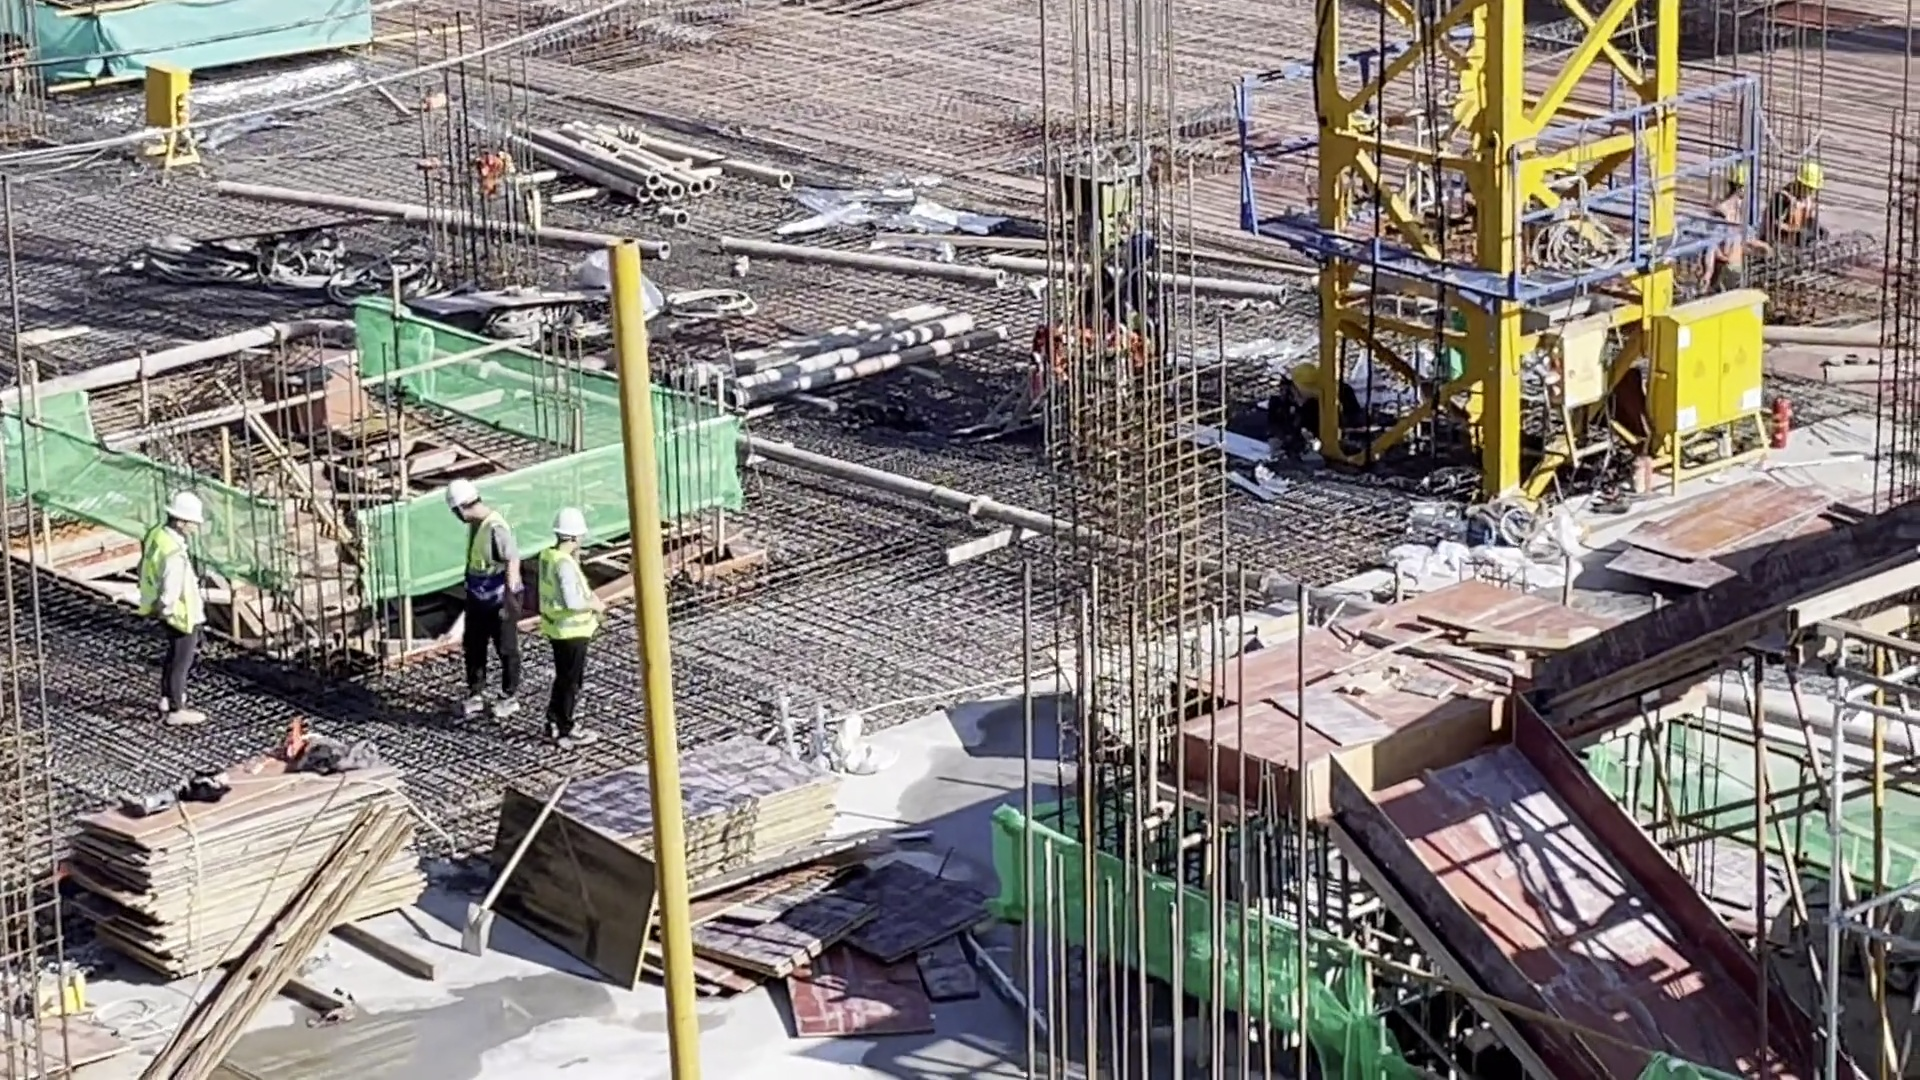board: (72, 727, 429, 980), (515, 734, 846, 888)
ebox: (1651, 288, 1768, 477), (144, 61, 200, 170)
helmet: (165, 494, 203, 530), (551, 508, 587, 540), (1291, 360, 1325, 393), (1791, 161, 1824, 191), (448, 480, 476, 508), (1731, 164, 1751, 191)
person: (448, 476, 528, 717), (538, 508, 606, 756), (147, 493, 208, 732), (1706, 160, 1762, 294), (1274, 358, 1363, 439), (1781, 156, 1829, 243)
vest: (146, 531, 206, 635), (541, 549, 599, 645), (466, 514, 517, 610), (1715, 201, 1751, 268), (1777, 193, 1822, 234)
